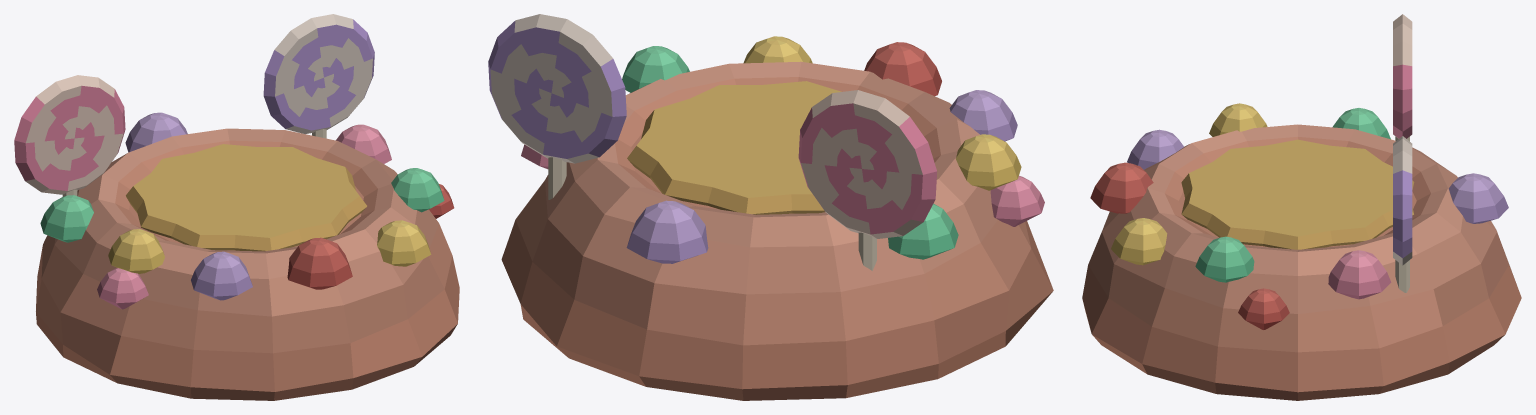
File: habitat_candy_patch.fbx
3 views of the same model, side by side, from view 1: azimuth 30°, elevation 25°; view 2: azimuth 150°, elevation 25°; view 3: azimuth 270°, elevation 25° (orthographic). The views are drawn at different scales.
Visible parts, largest first — view 1: habitat_candy_patch; view 2: habitat_candy_patch; view 3: habitat_candy_patch.
Boxes of the visible parts, x1,y1,x2,y2 form: habitat_candy_patch: [14, 14, 459, 400]; habitat_candy_patch: [488, 14, 1053, 400]; habitat_candy_patch: [1082, 14, 1521, 400].
Size of the model in its own units: 7.8 by 4.5 by 7.8.
